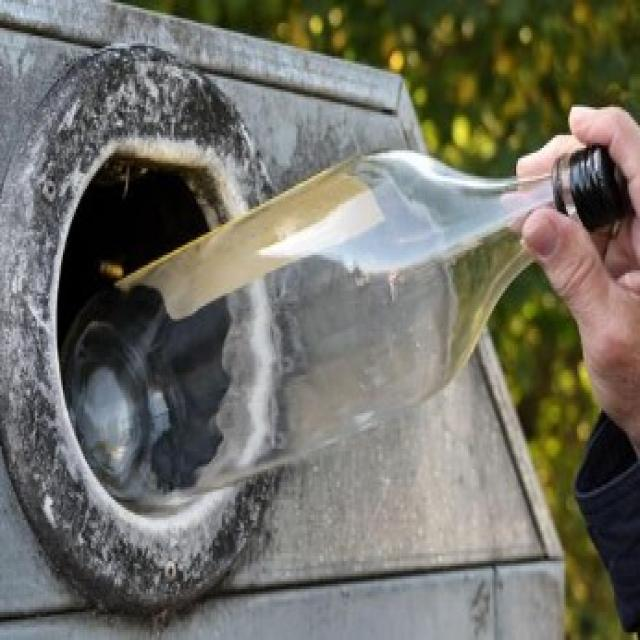electronic: (52, 139, 635, 503)
